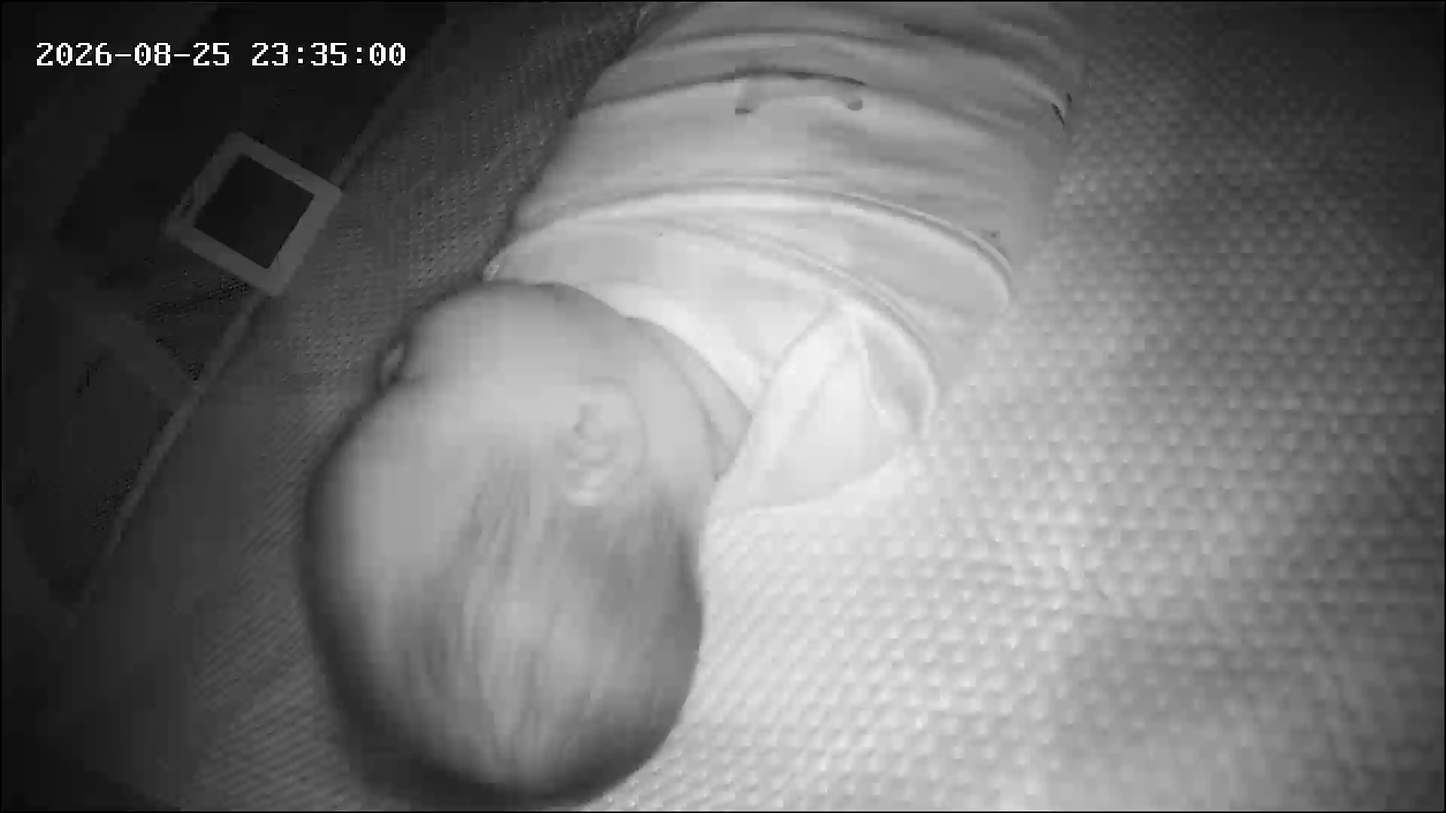baby: (281, 3, 1119, 807)
baby_face: (293, 275, 735, 803)
